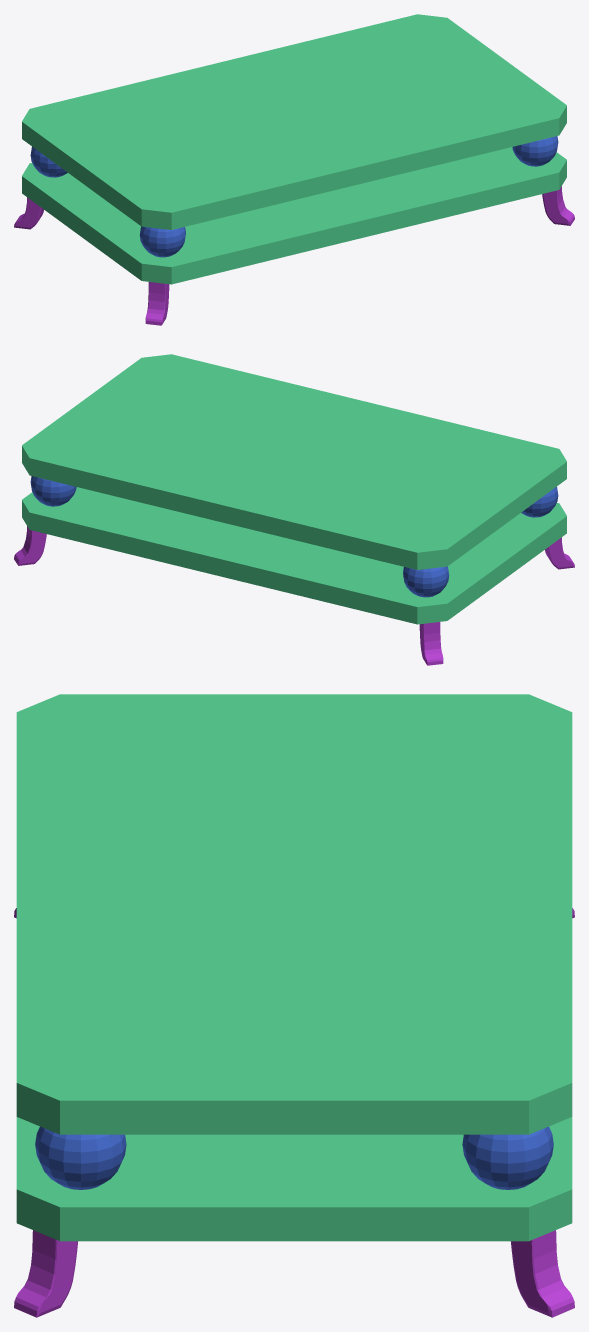
The model's file is TableFBX.fbx.
3 views of the same model, one above another, from view 1: azimuth 30°, elevation 25°; view 2: azimuth 150°, elevation 25°; view 3: azimuth 270°, elevation 25° (orthographic). The views are drawn at different scales.
Parts seen in each view (by area): view 1: Table; view 2: Table; view 3: Table.
Boxes of the visible parts, x1=… form: Table: x1=14, y1=14, x2=574, y2=325; Table: x1=14, y1=354, x2=574, y2=665; Table: x1=14, y1=694, x2=574, y2=1317.
Bounding box in the file's own units: 496 × 121 × 287.
